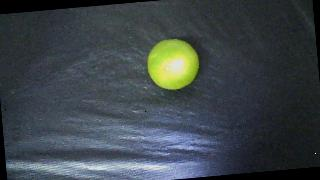LOCAL: (145, 37, 201, 92)
